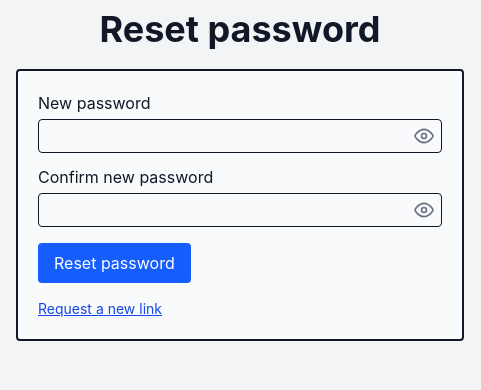
Test: ResetPassword › shows an expired-link error from the server
Type "newpassword456" into the password field labelled "New password".
click(240, 136); type("newpassword456")  # box [38, 119, 442, 153]
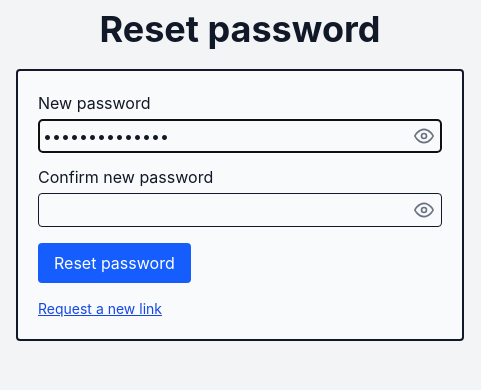
Type "newpassword456" into the password field labelled "Confirm new password".
click(240, 210); type("newpassword456")  # box [38, 193, 442, 227]
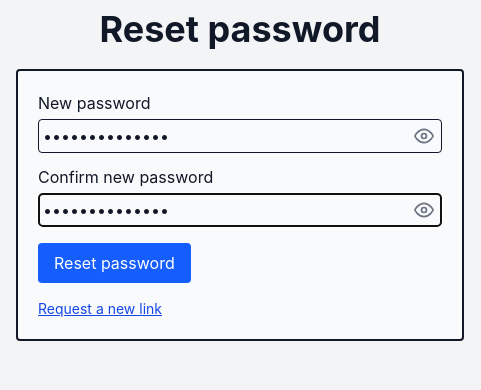
Click the button "Reset password".
click(114, 263)  # box [38, 243, 191, 283]
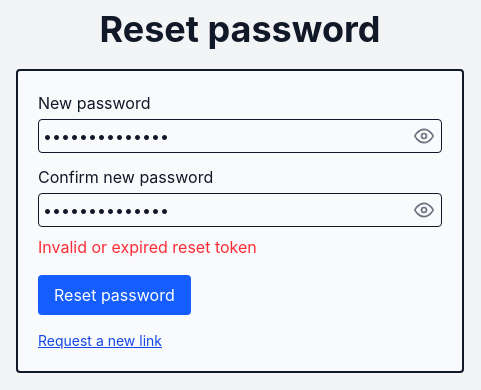
Expected: the message reads "Invalid or expired reset token", [38, 237, 257, 257]
